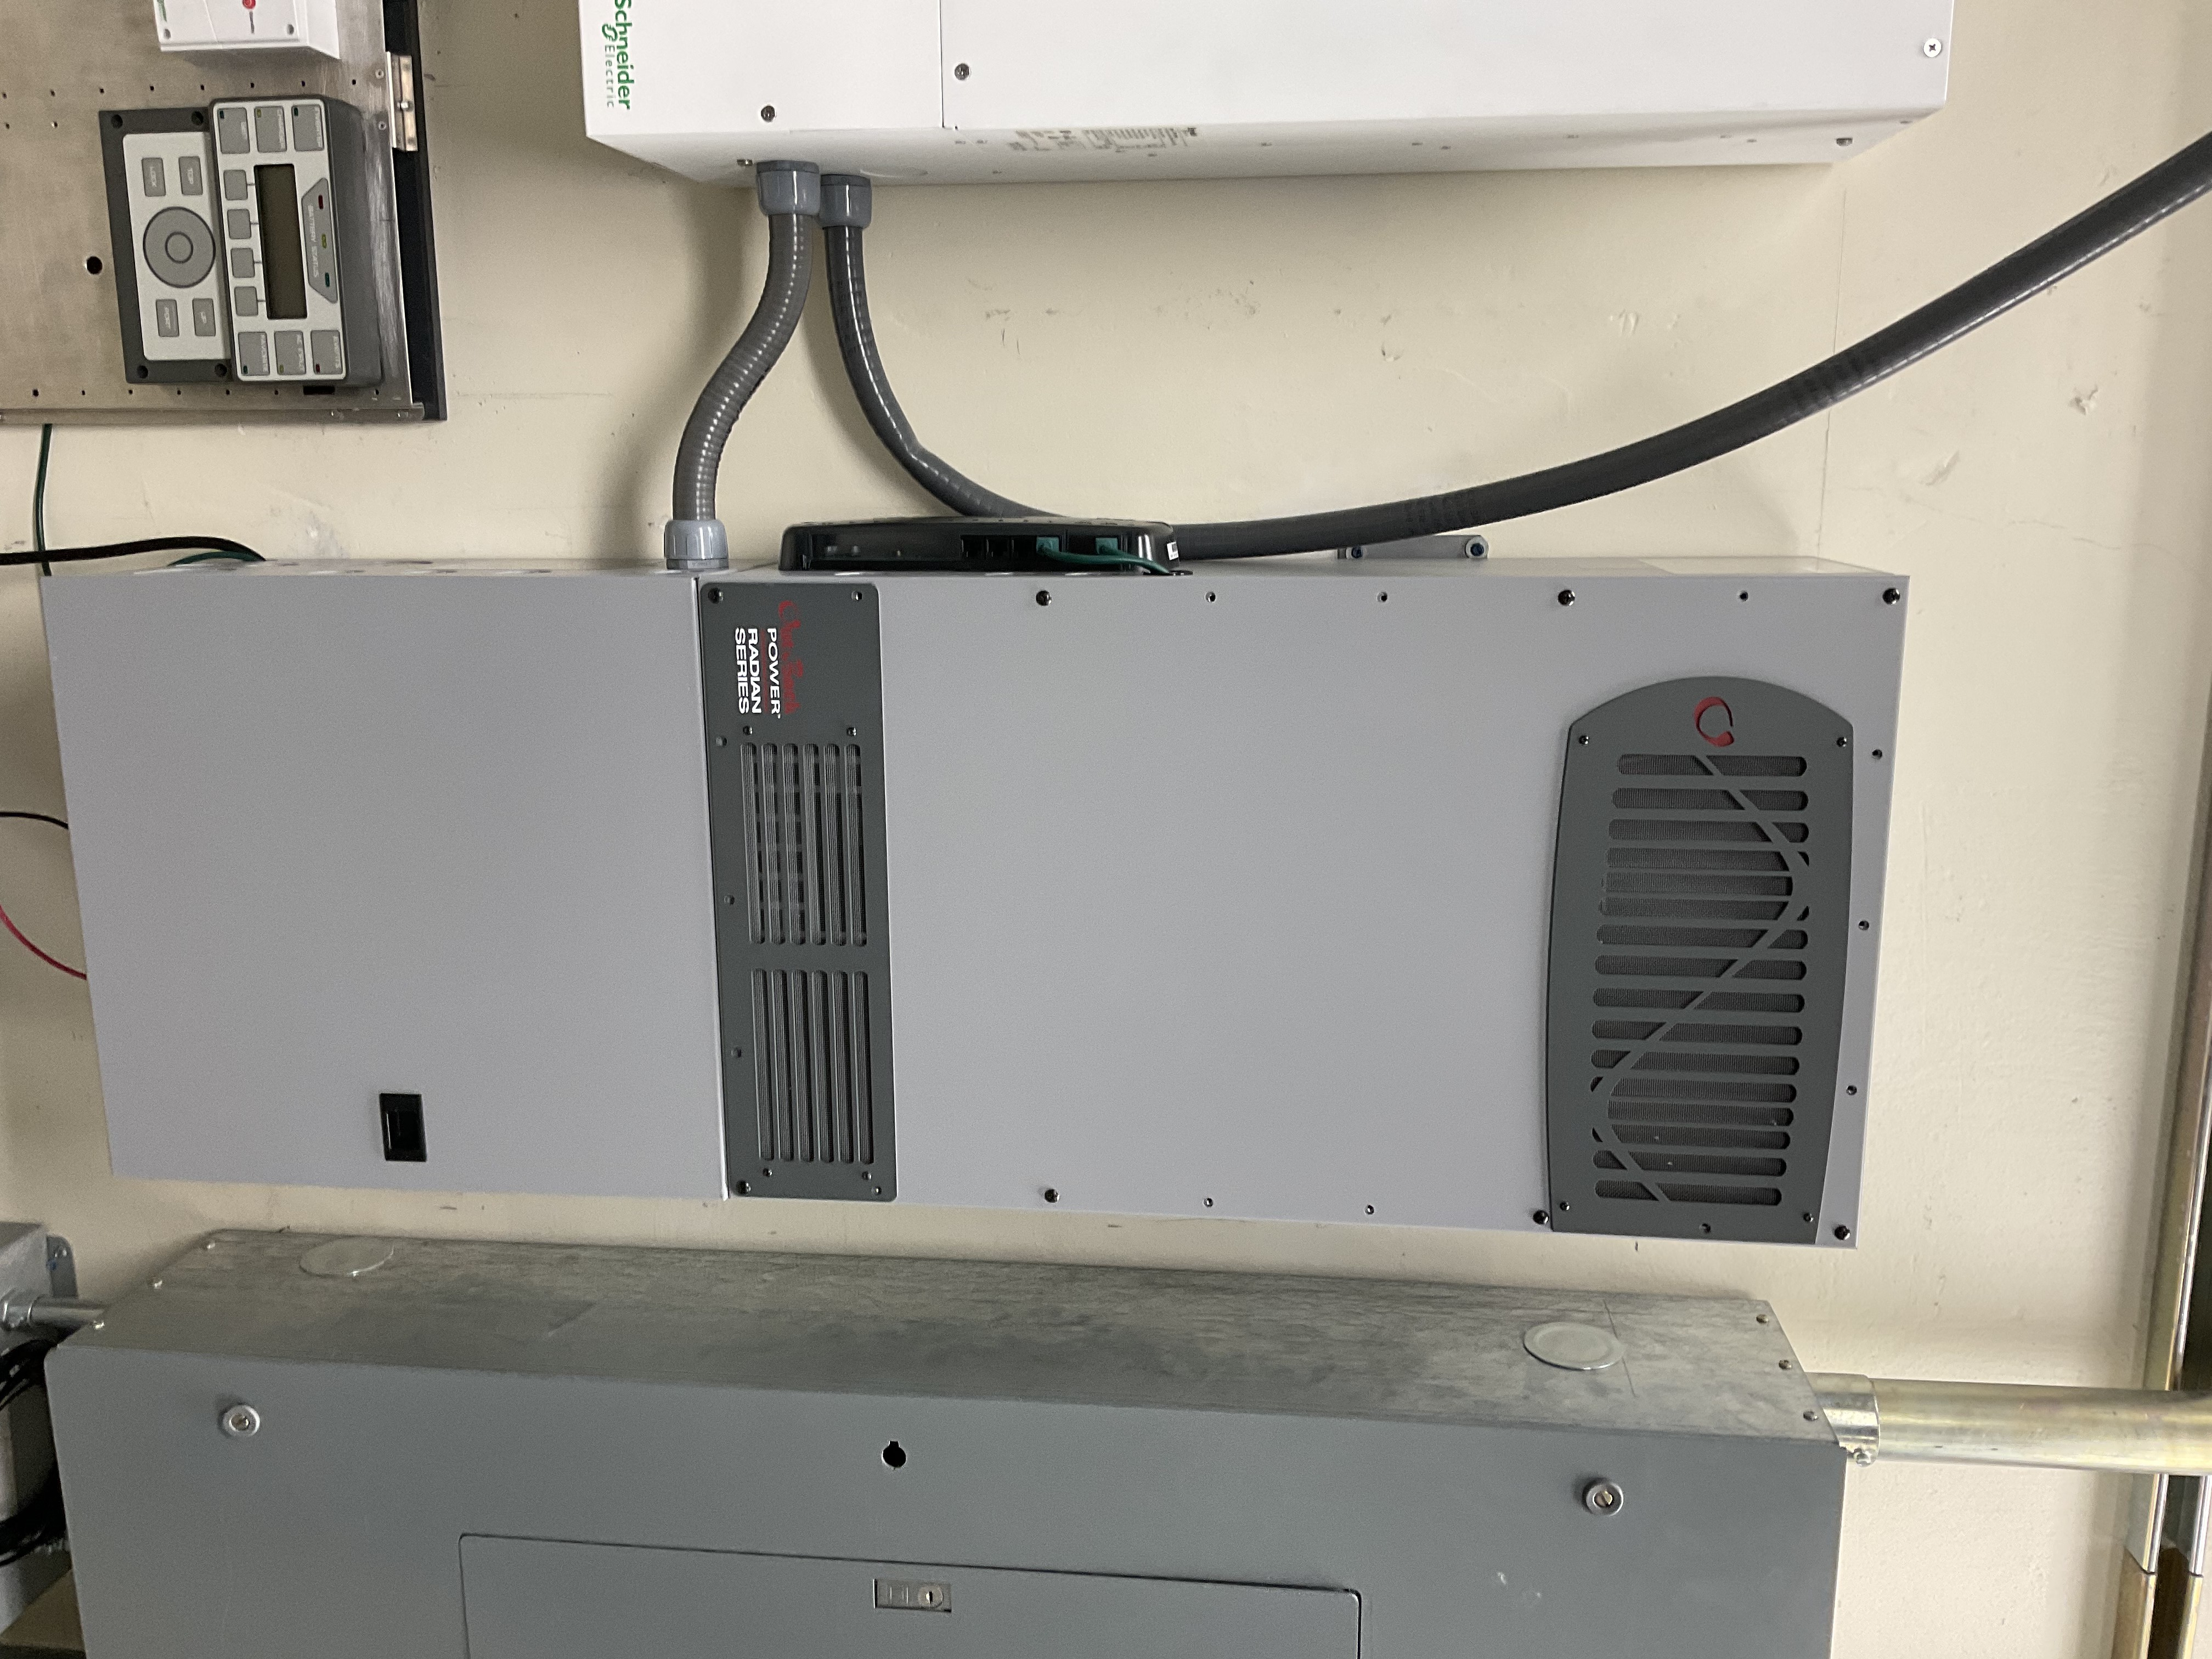inverter: (31, 554, 1916, 1265)
